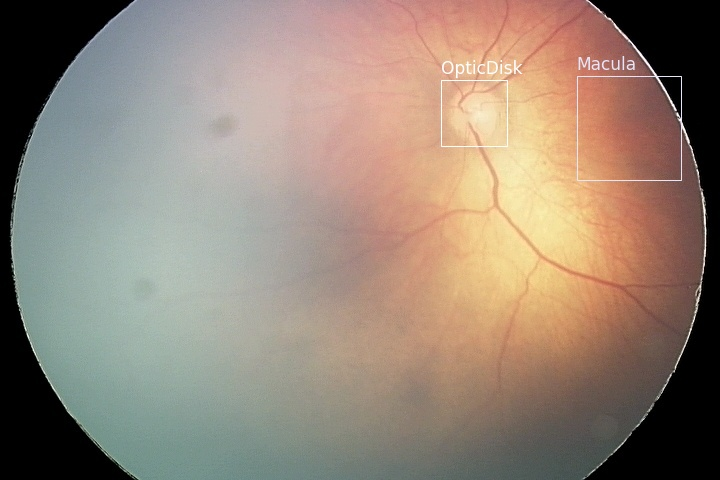Macula: (576, 75, 680, 179)
OpticDisk: (440, 79, 506, 145)
